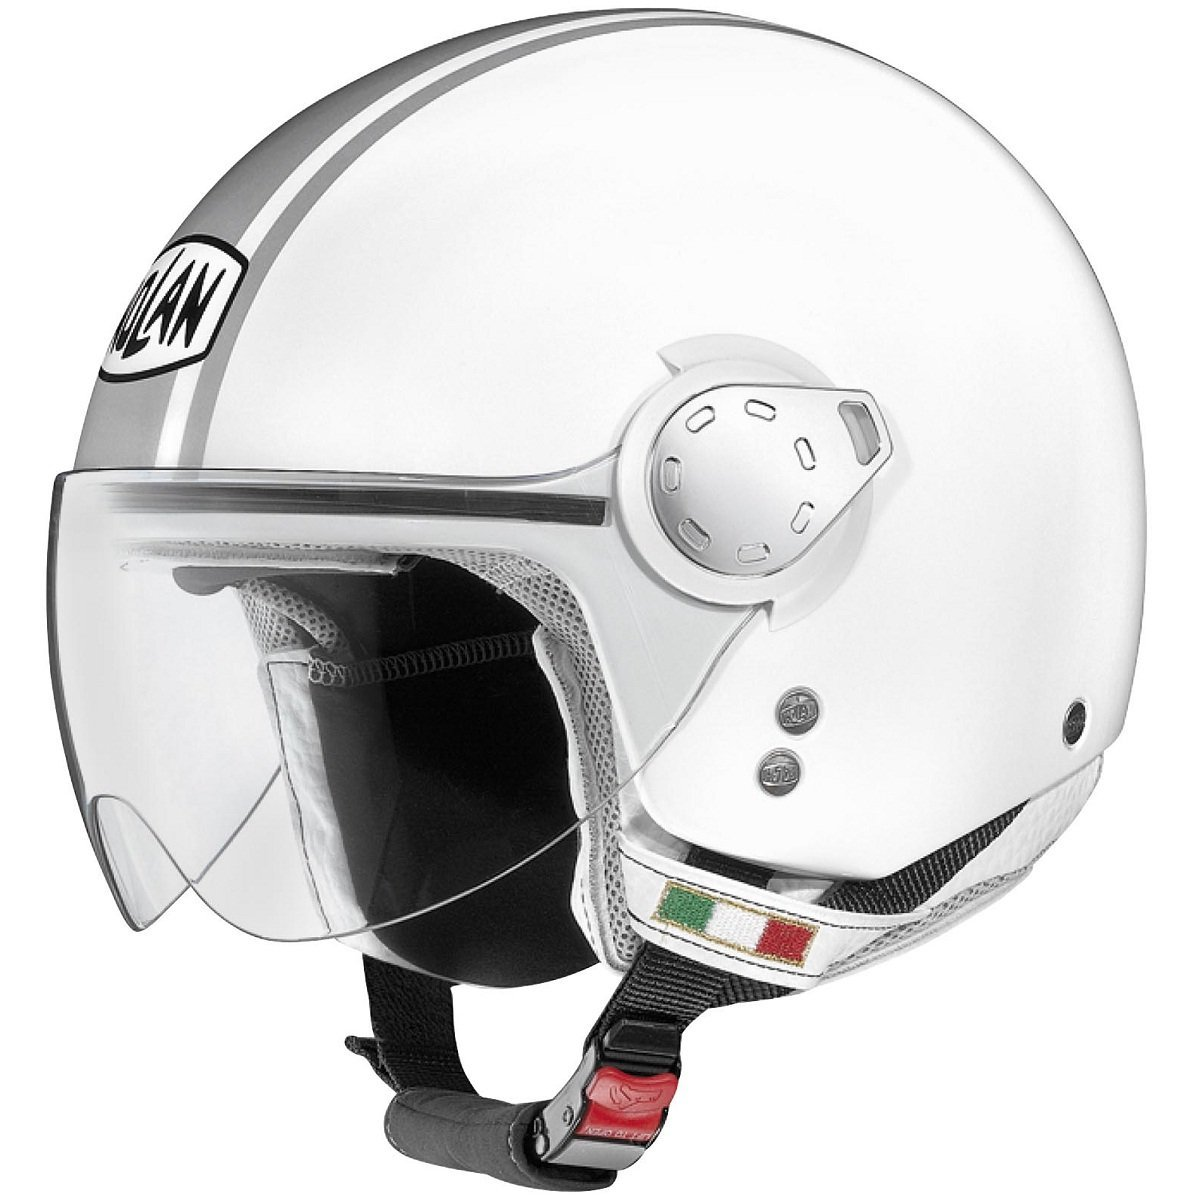with_helmet: (35, 5, 1163, 1051)
